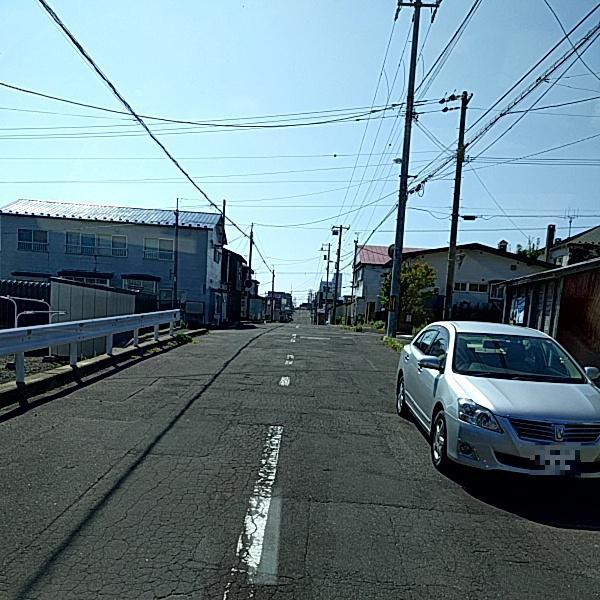D20: (39, 384, 569, 599)
D44: (223, 425, 284, 594)
